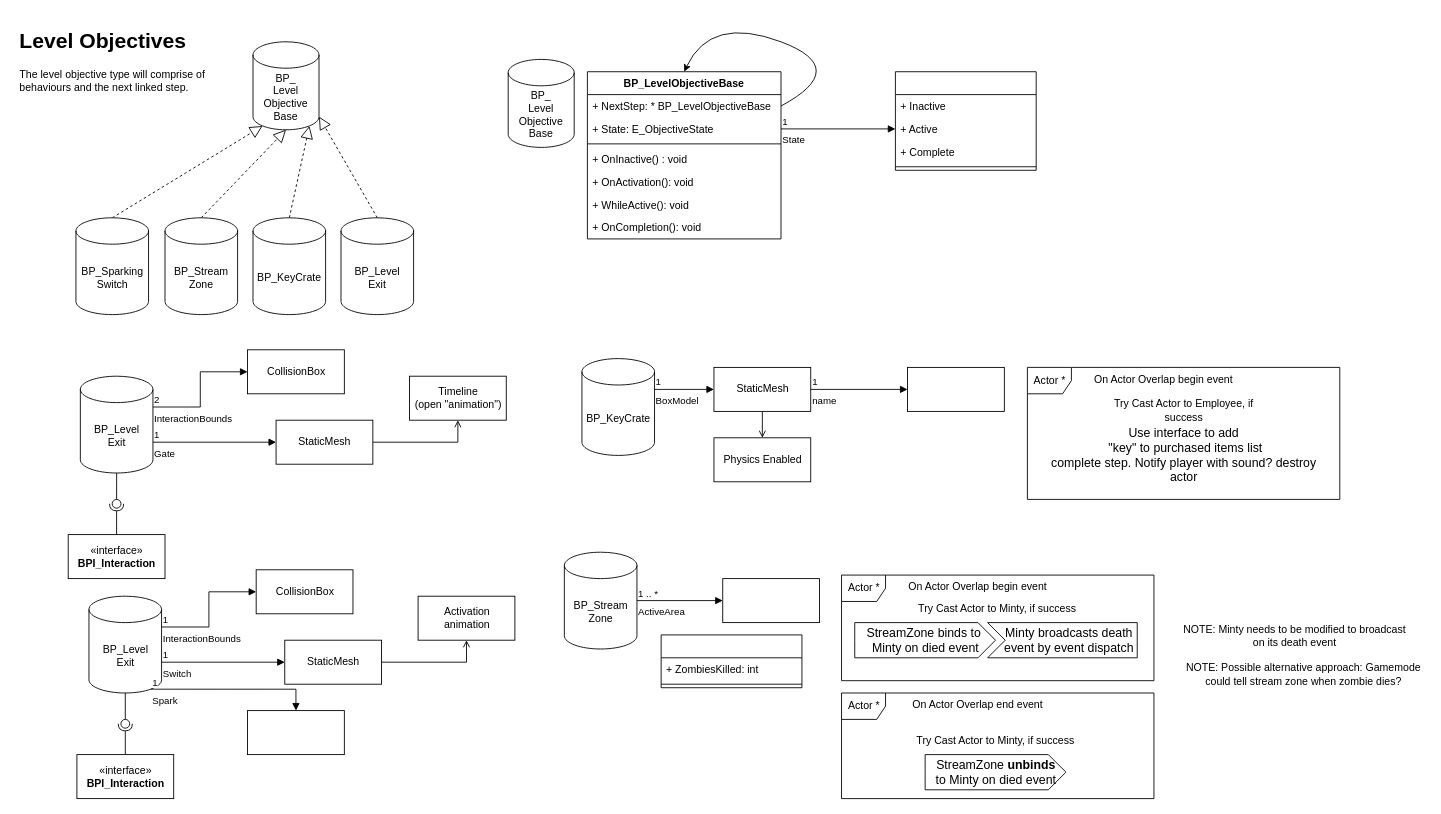
Image size: 1441x814. Some labels were removed from this diagram. Here are the shapes that lost their labels. From the top down, the box of each, then its label:
(895, 71, 1036, 170): E_ObjectiveState
(907, 367, 1004, 411): Generated Mesh Collision
(722, 578, 820, 623): CollisionVolume
(660, 634, 802, 688): BP_StreamZone
(247, 710, 344, 755): Spark particle effect
